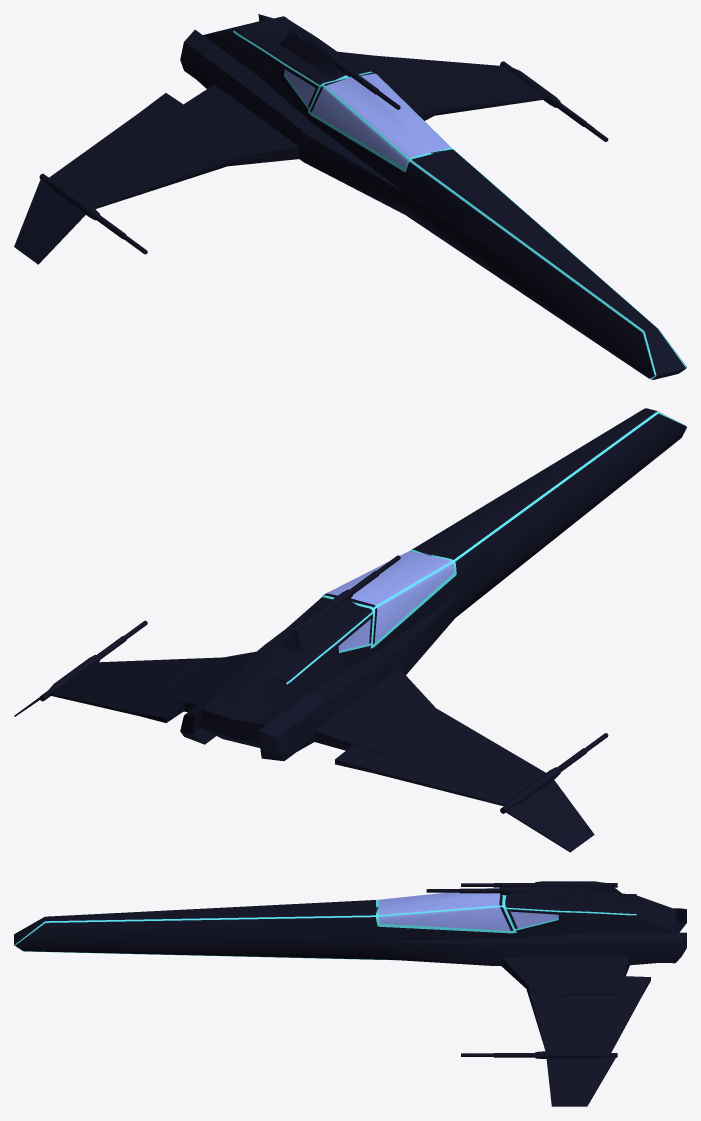
3 views of the same model, one above another, from view 1: azimuth 30°, elevation 25°; view 2: azimuth 150°, elevation 25°; view 3: azimuth 270°, elevation 25° (orthographic). The views are drawn at different scales.
Visible parts, largest first — view 1: body; view 2: body; view 3: body.
Part boxes in pixels (box(x1,y1,x2,y2)): body: box(14, 14, 686, 379); body: box(14, 408, 686, 852); body: box(14, 881, 686, 1106).
Size of the model in its own units: 0.2633 by 0.0696 by 0.3641.
